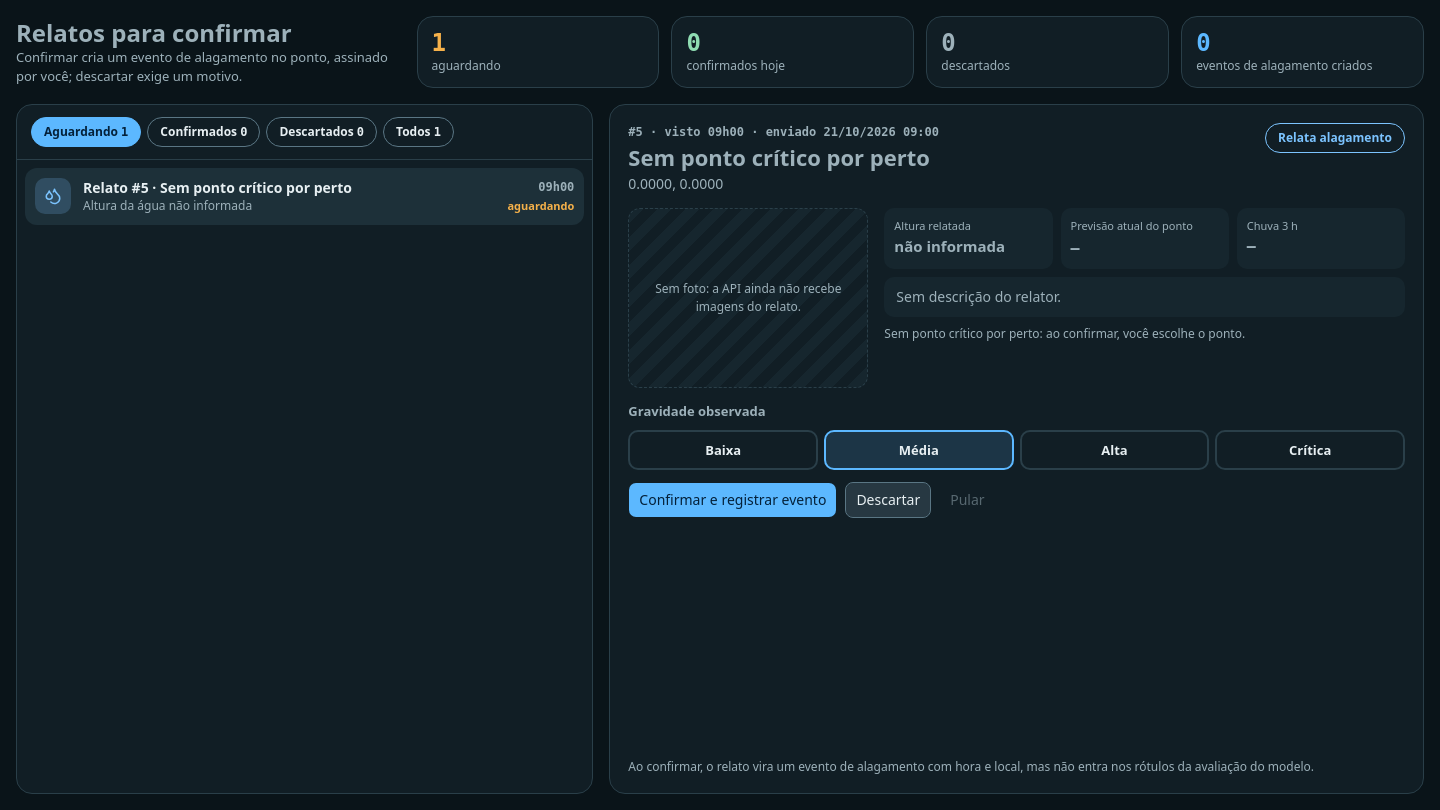
it: ReportsPage › confirmar sem ponto sugerido abre o formulário e bloqueia sem ponto
This screenshot has width=1440, height=810.
Click the button with aria-label "Confirmar relato 5": (733, 500) top-left (628, 482), bottom-right (837, 518)
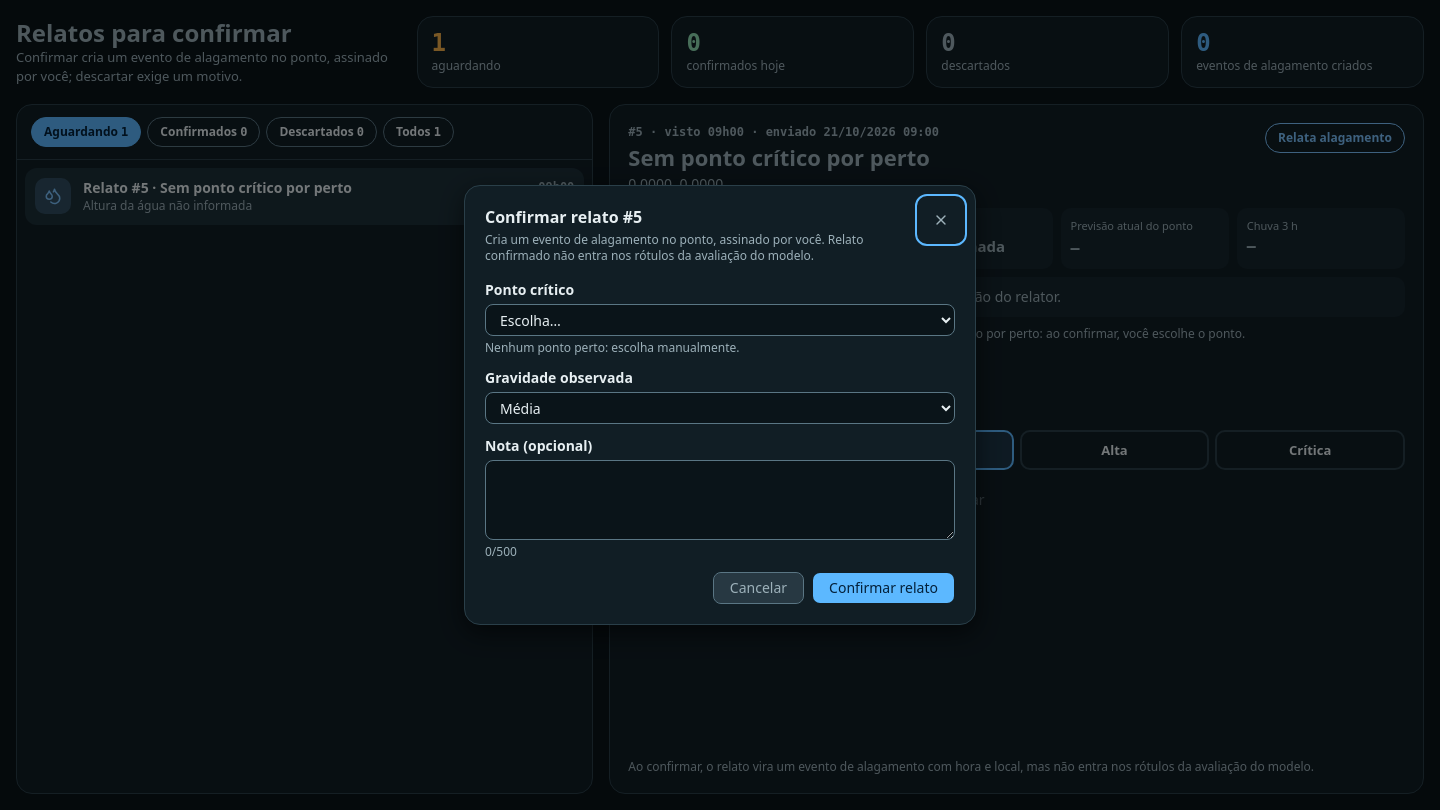
Click the button "Confirmar relato": (884, 588) top-left (812, 572), bottom-right (955, 604)
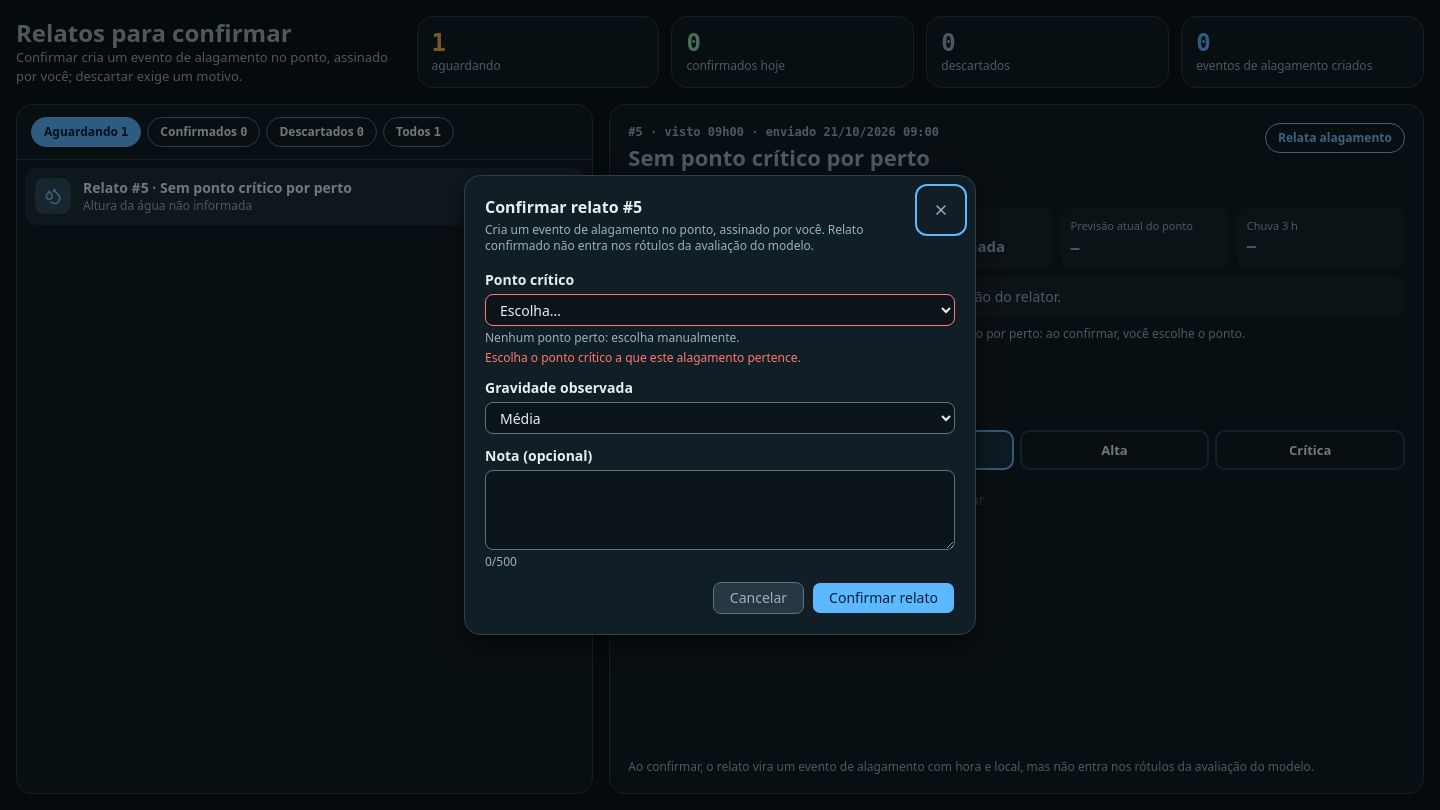
Now the text "Escolha o ponto crítico a que este alagamento pertence." is shown, box top-left (485, 349), bottom-right (801, 366)
